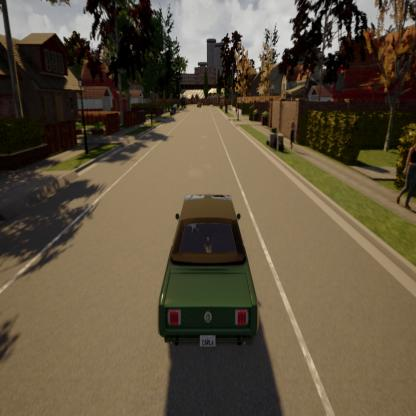Cars: (158, 193, 258, 349)
Pedestrian: (397, 134, 416, 212), (288, 113, 296, 148)
